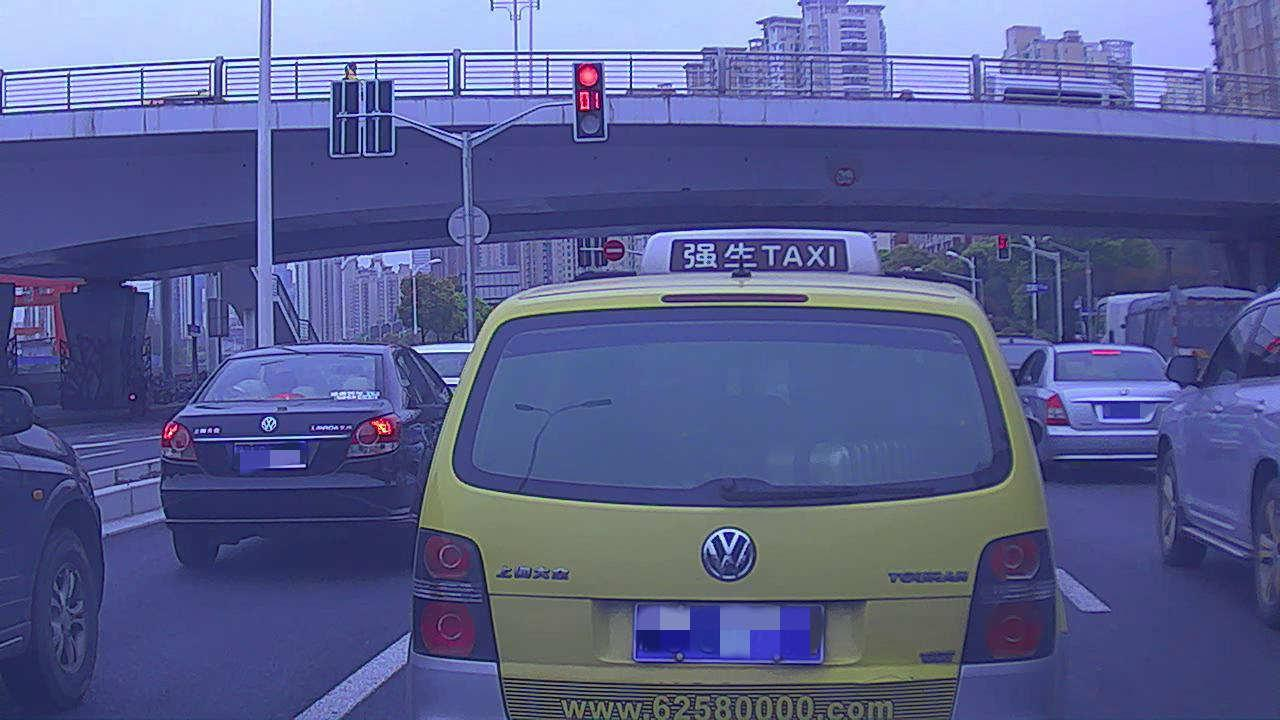traffic_light: (574, 57, 609, 141)
